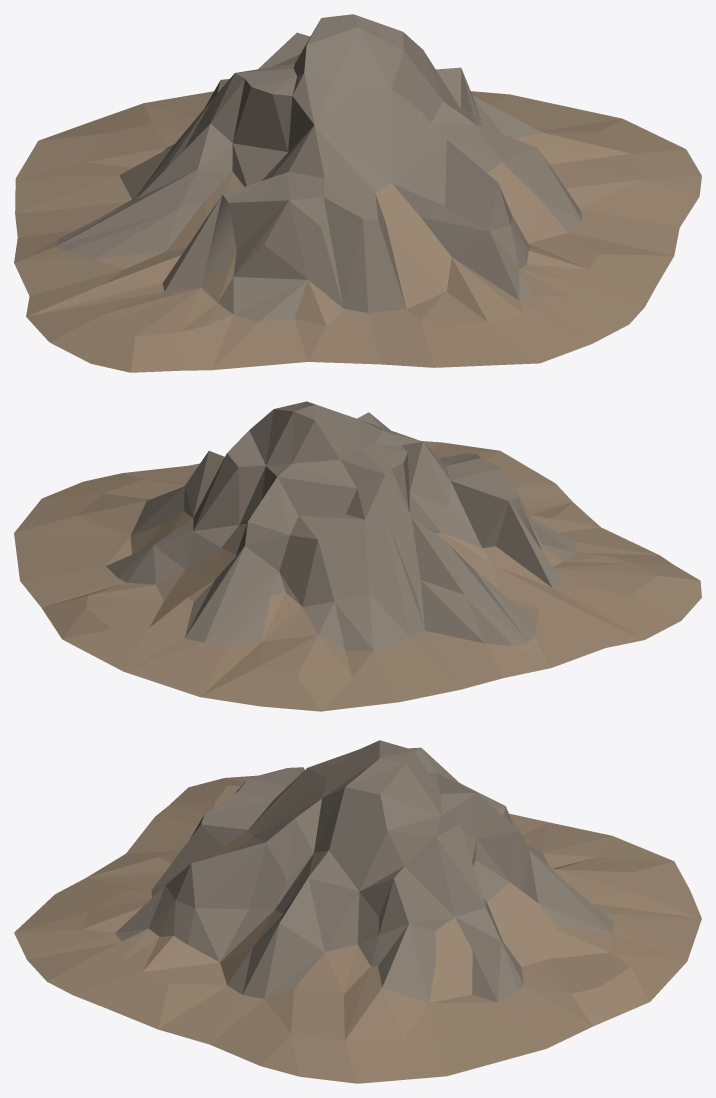
File: SM_Env_Mountain_03.fbx
3 views of the same model, one above another, from view 1: azimuth 30°, elevation 25°; view 2: azimuth 150°, elevation 25°; view 3: azimuth 270°, elevation 25° (orthographic). The views are drawn at different scales.
Parts seen in each view (by area): view 1: SM_Env_Mountain_03; view 2: SM_Env_Mountain_03; view 3: SM_Env_Mountain_03.
Boxes of the visible parts, x1,y1,x2,y2 form: SM_Env_Mountain_03: (14, 14, 701, 372); SM_Env_Mountain_03: (14, 401, 701, 711); SM_Env_Mountain_03: (14, 740, 701, 1083).
Bounding box in the file's own units: 2563 × 693 × 2403.
